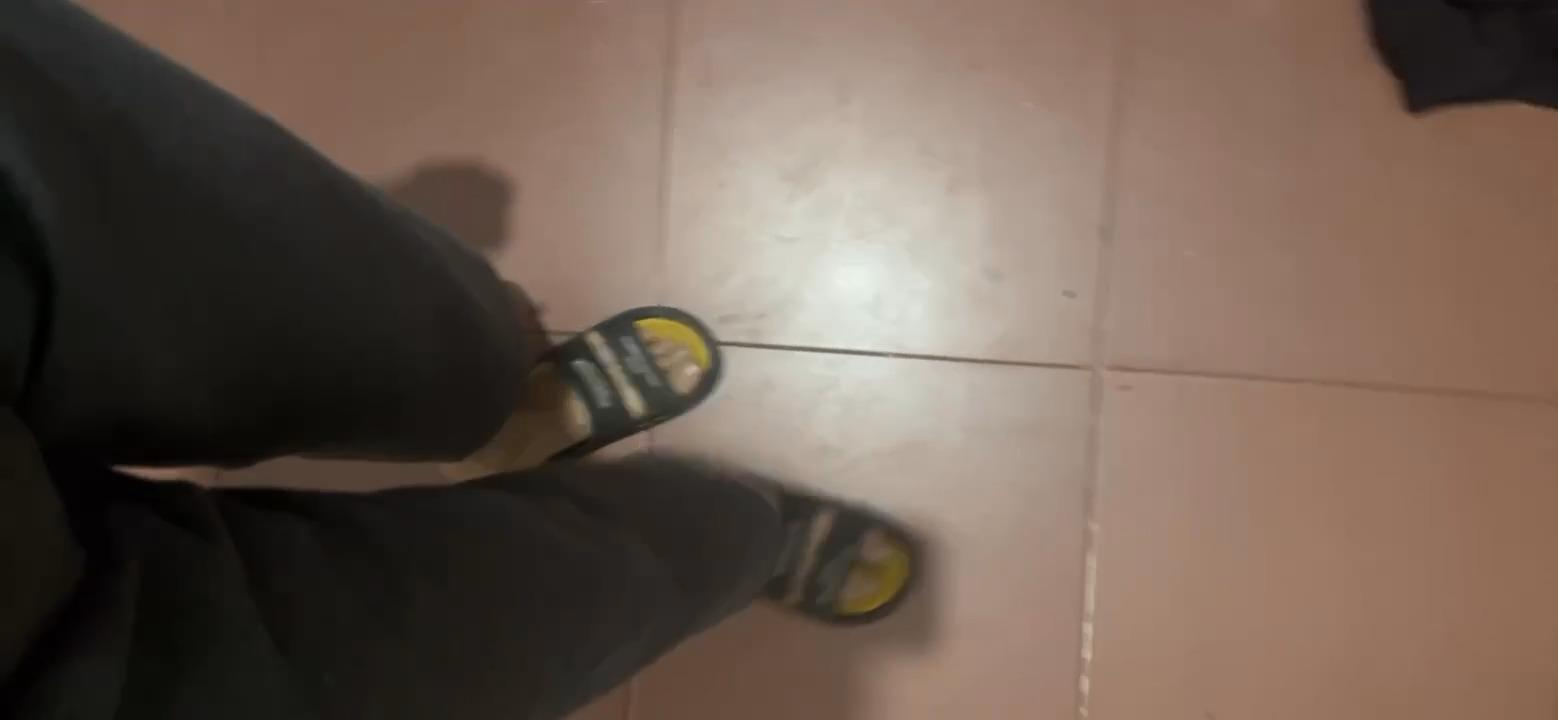no-boot: (421, 307, 766, 472)
